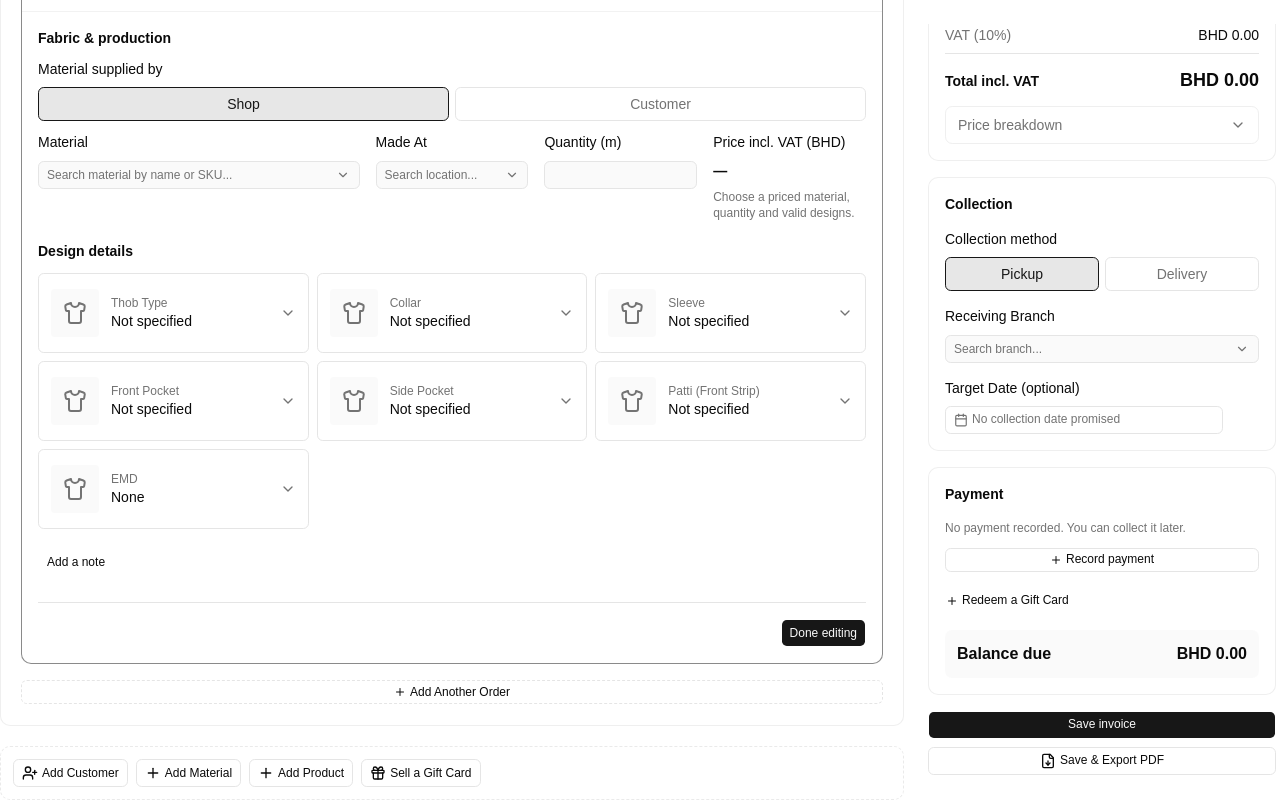
Test: InvoiceFormPage validation (zod + TanStack Form) › shows the zod error inline on the field and a banner, blocking submit
The width and height of the screenshot is (1280, 800).
(page scrolled)
What coordinates should you click on to do the following:
click the button "Save invoice"
I would click on:
 (1102, 725)
Its box is [928,711,1276,739].
(page scrolled)
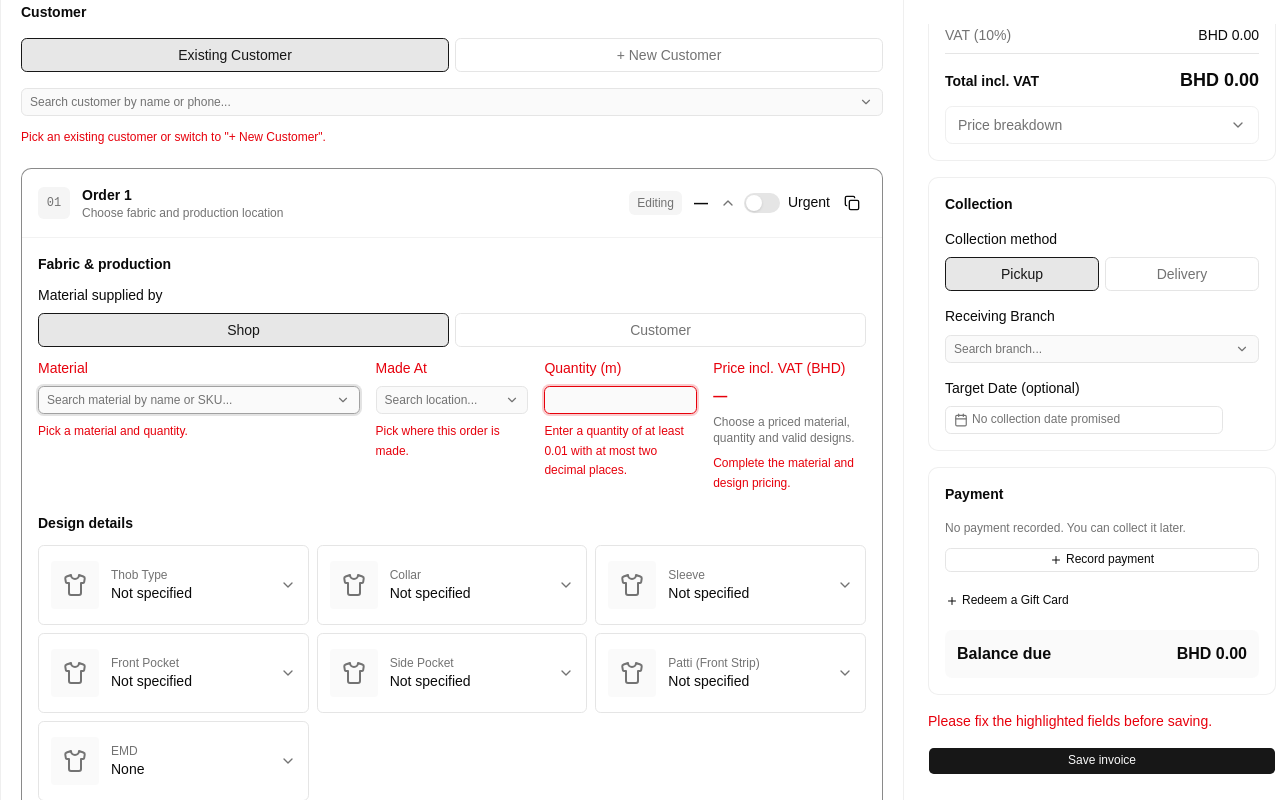
Expected: the text "Pick an existing customer or switch to \"+ New Customer\"." is shown, [21,130,326,144]
Expected: the text "Please fix the highlighted fields before saving." is shown, [928,713,1212,729]
